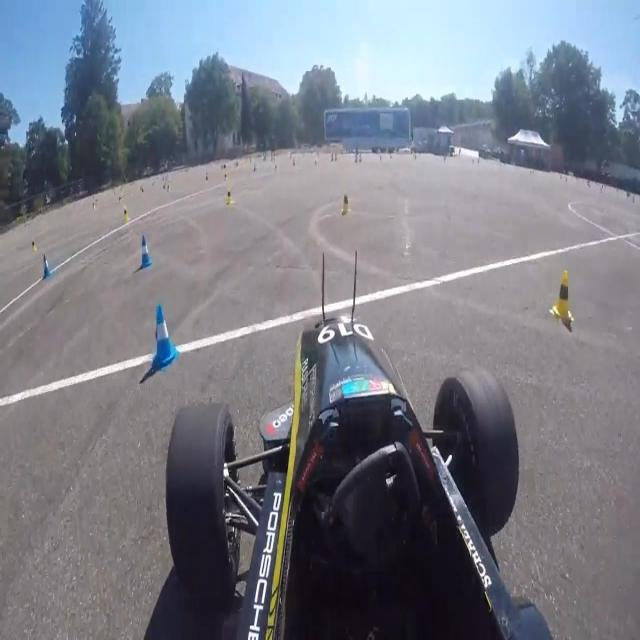blue_cone: (140, 304, 179, 367), (136, 234, 160, 270)
yellow_cone: (550, 268, 574, 320), (336, 186, 352, 214)
